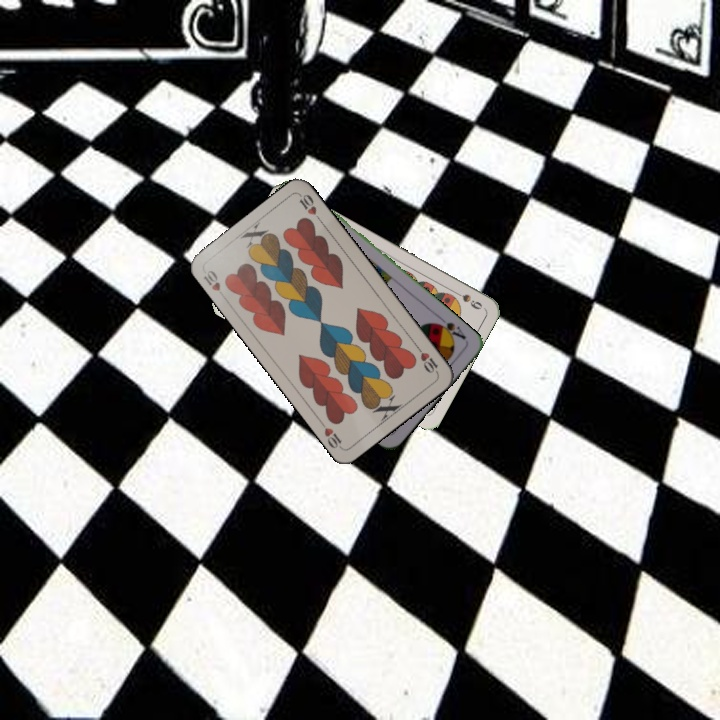H10: (412, 341, 441, 376), (200, 266, 228, 301)
S9: (448, 286, 485, 312)
SA: (431, 313, 468, 343)
